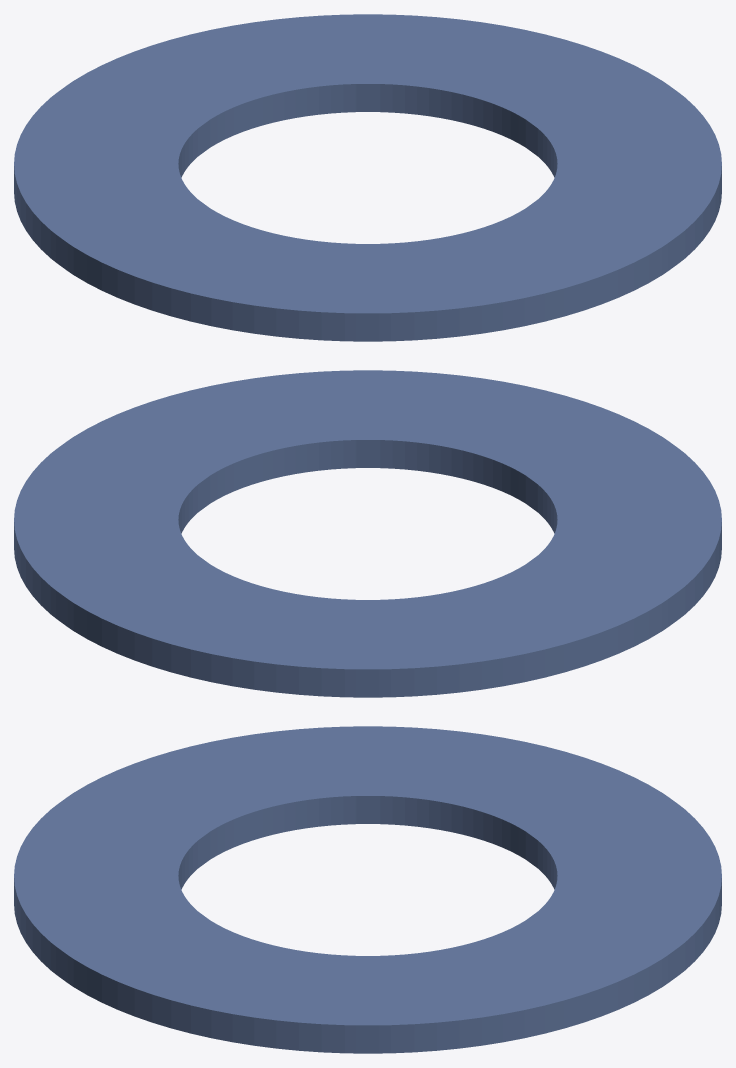
The model's file is Ring_01_Collider.fbx.
3 renders of one model, top to bottom at view 1: azimuth 30°, elevation 25°; view 2: azimuth 150°, elevation 25°; view 3: azimuth 270°, elevation 25°, orthographic.
Parts seen in each view (by area): view 1: Ring_01_Collider; view 2: Ring_01_Collider; view 3: Ring_01_Collider.
Part boxes in pixels (x1=…): Ring_01_Collider: x1=14, y1=14, x2=721, y2=341; Ring_01_Collider: x1=14, y1=370, x2=721, y2=697; Ring_01_Collider: x1=14, y1=726, x2=721, y2=1053.
Bounding box in the file's own units: 362 × 15.92 × 362.
